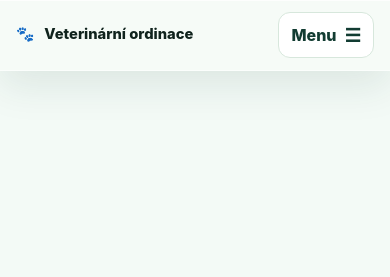
it: closes navigation after choosing a section and distinguishes contact from booking
Click the button "Menu ☰" at (326, 35), box x1=278 y1=12 x2=374 y2=58
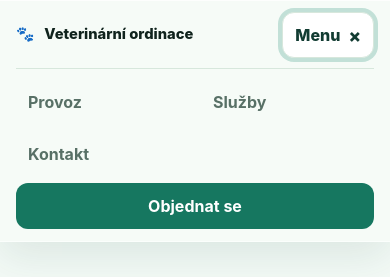
Click the link "Služby" at (240, 102), box x1=213 y1=92 x2=266 y2=112
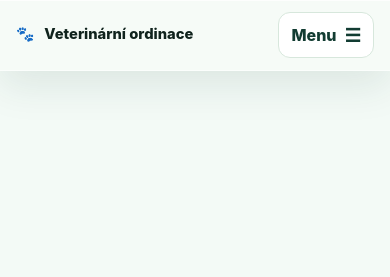
Expected: the button "Menu ☰" is collapsed, x1=278 y1=12 x2=374 y2=58
